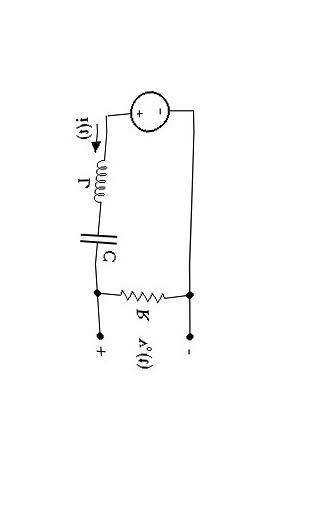Battery: (116, 74, 182, 141)
